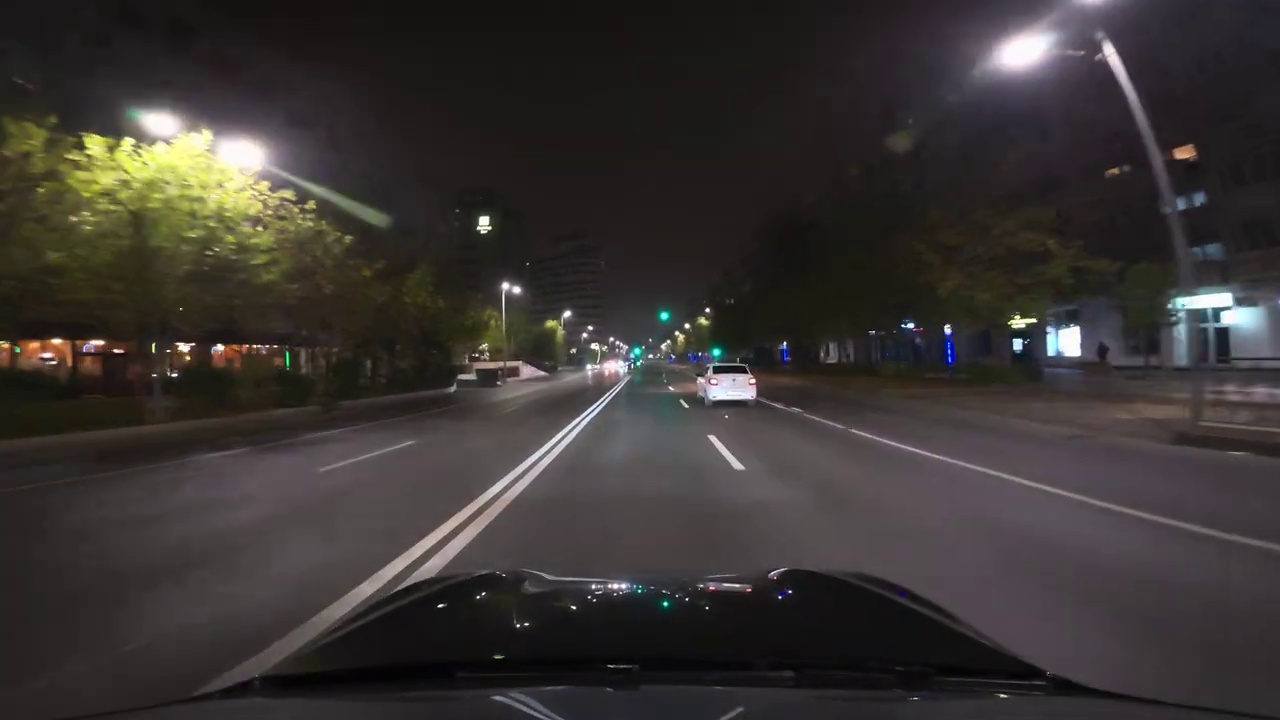acesa: (997, 29, 1049, 69), (216, 138, 261, 174), (136, 109, 179, 139), (471, 213, 496, 238), (886, 128, 911, 153)
